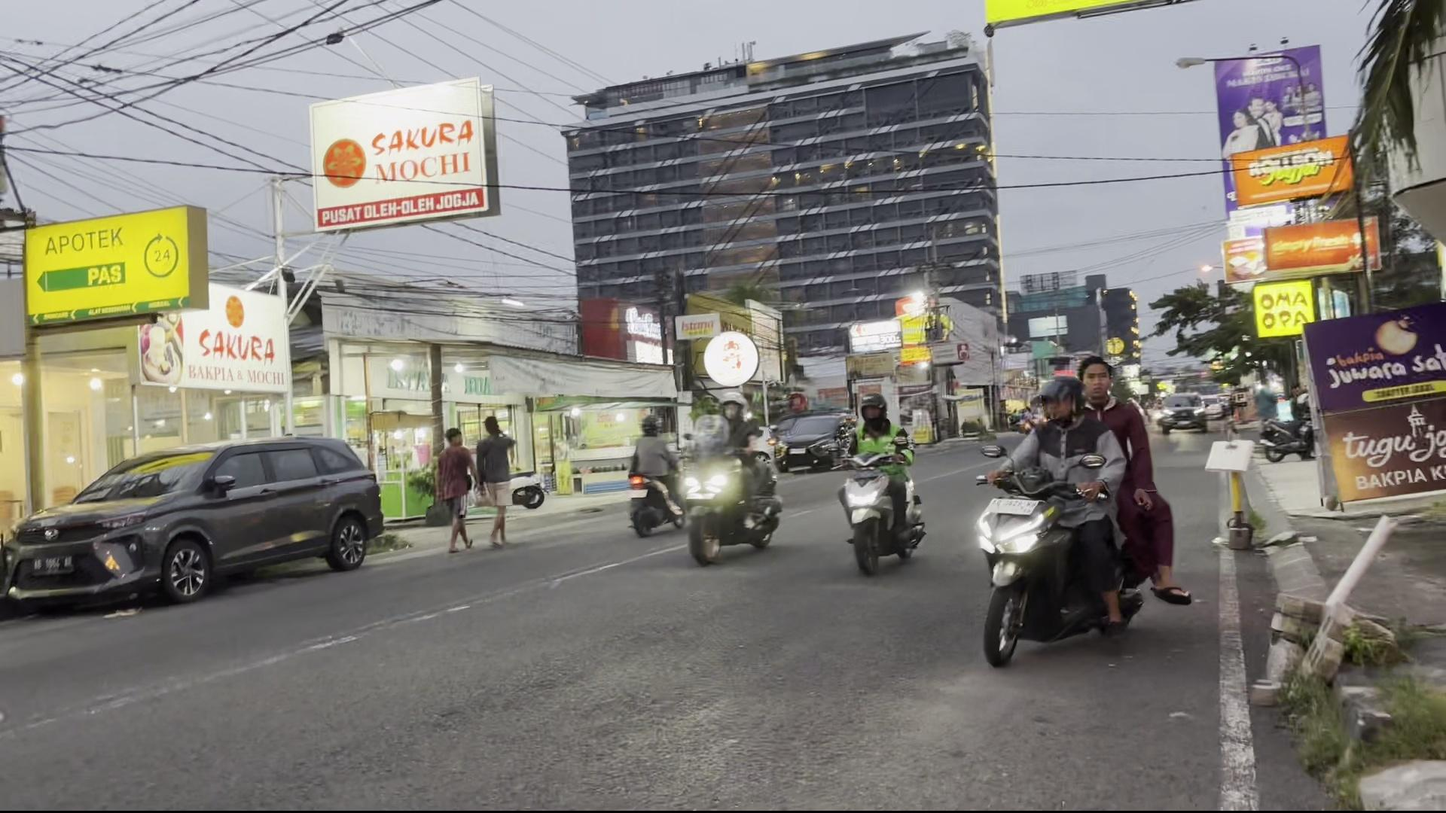helm: (1025, 368, 1086, 431)
nohelm: (1078, 352, 1116, 405)
riding: (970, 351, 1209, 680)
